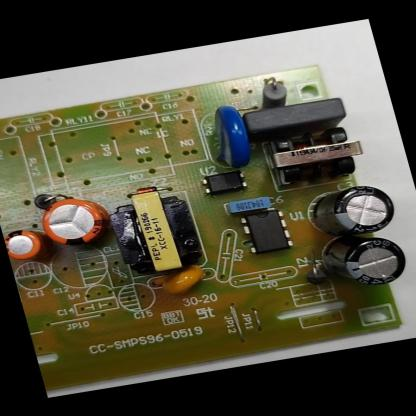Cap1: (34, 188, 121, 253)
Cap2: (1, 222, 58, 266)
Cap3: (294, 174, 405, 249)
Cap4: (308, 220, 416, 298)
MOSFET: (234, 201, 299, 261)
Mov: (193, 99, 264, 177)
Resistor: (250, 73, 297, 111)
Transformer: (96, 178, 210, 283), (259, 115, 375, 192)
